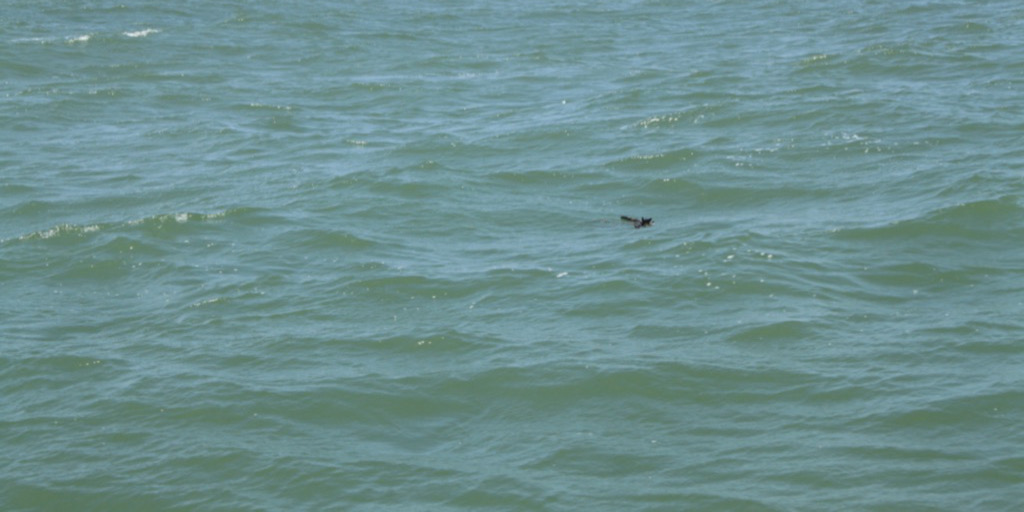plastic: (608, 209, 664, 237)
